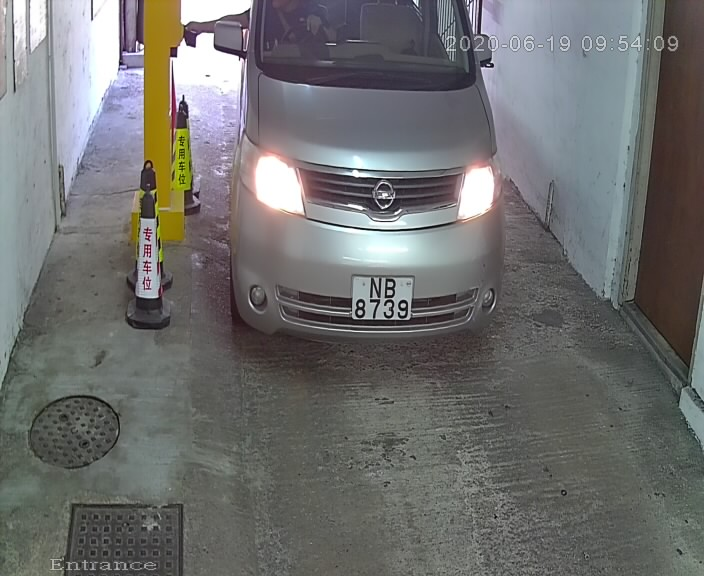privatecar: (234, 3, 505, 347)
